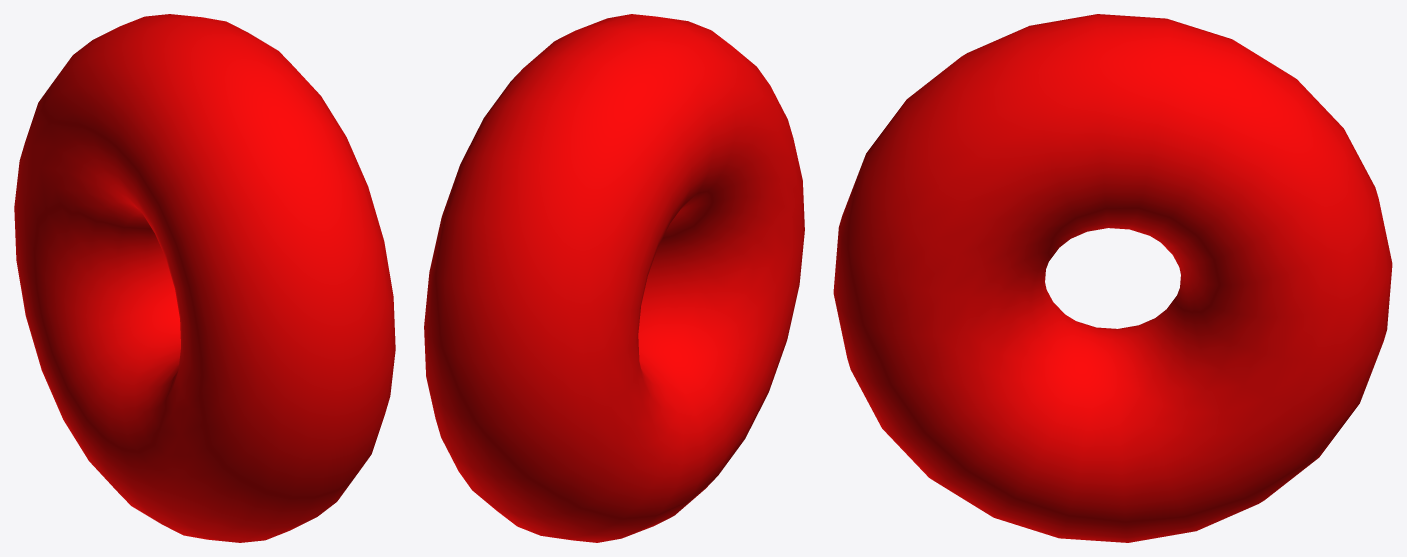
File: tape1_4.dae
The picture shows the model from 3 angles, left to right: view 1: azimuth 30°, elevation 25°; view 2: azimuth 150°, elevation 25°; view 3: azimuth 270°, elevation 25°; orthographic projection. The views are drawn at different scales.
Parts seen in each view (by area): view 1: tape1; view 2: tape1; view 3: tape1.
Part boxes in pixels (left/top/right/bottom): tape1: left=14, top=14, right=395, bottom=542; tape1: left=424, top=14, right=804, bottom=542; tape1: left=833, top=14, right=1392, bottom=542.
Bounding box in the file's own units: 0.0183 × 0.0449 × 0.0449.
